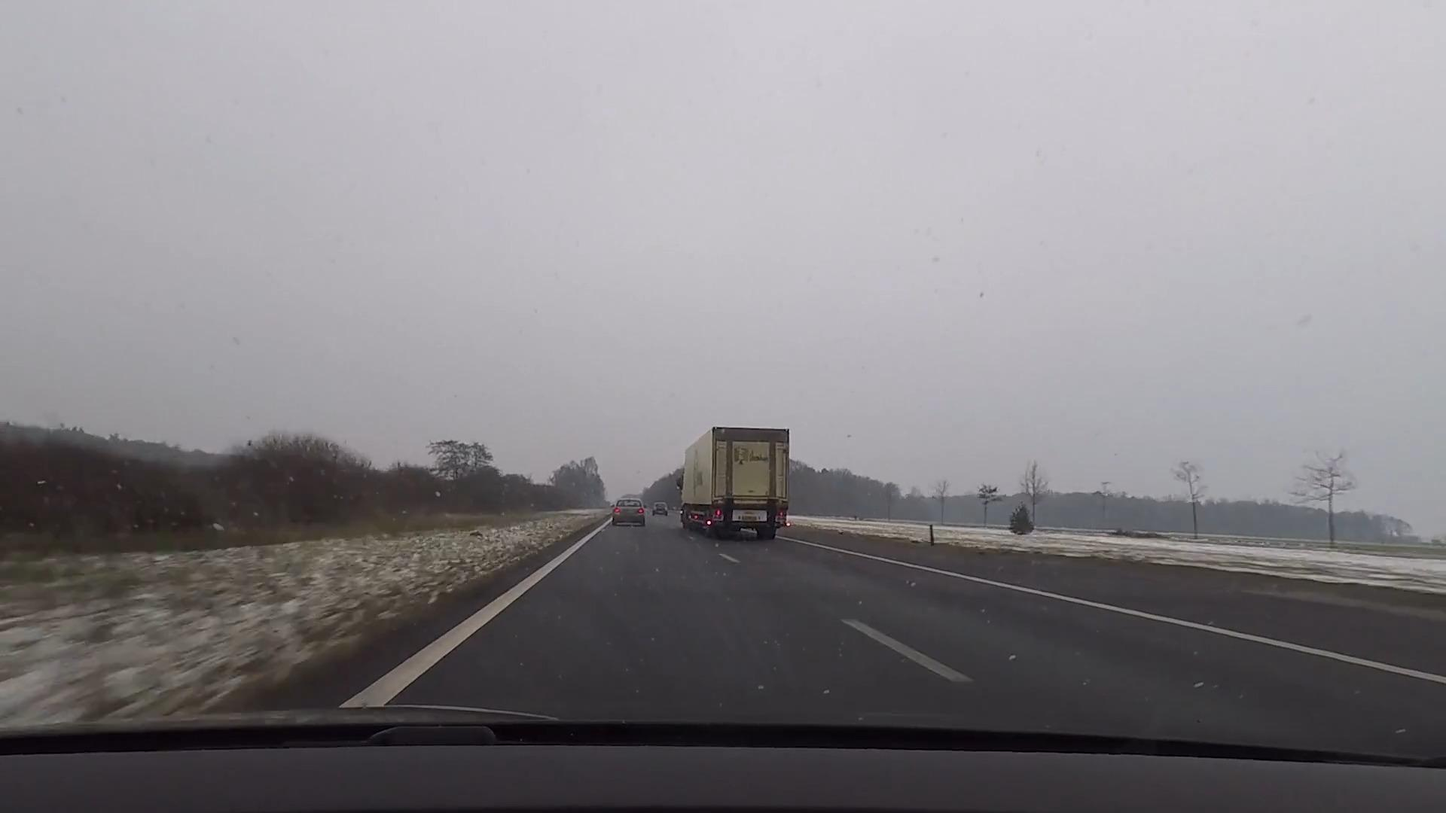Snow: (0, 510, 608, 725), (789, 515, 1446, 598)
dry: (340, 512, 1446, 754)
